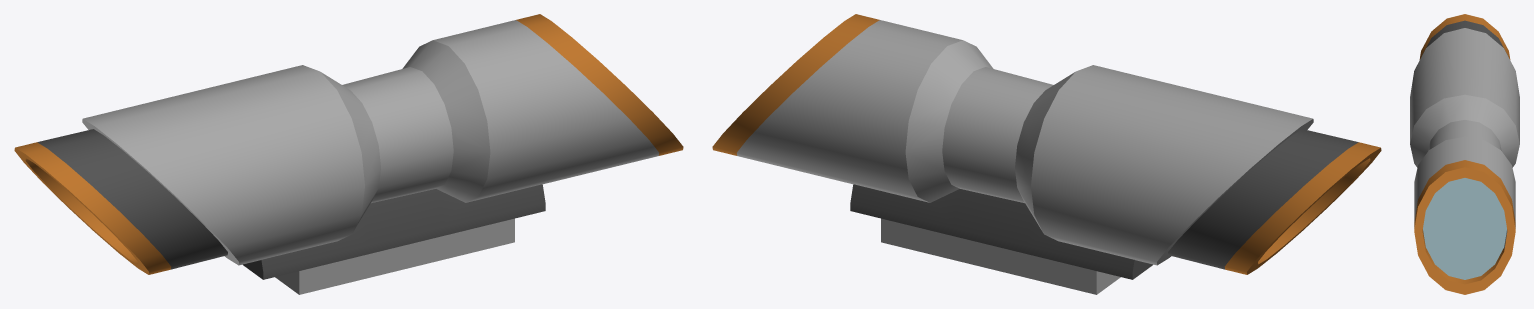
File: Scope_1.glb
The picture shows the model from 3 angles, left to right: view 1: azimuth 30°, elevation 25°; view 2: azimuth 150°, elevation 25°; view 3: azimuth 270°, elevation 25°; orthographic projection. The views are drawn at different scales.
Visible parts, largest first — view 1: Scope_1; view 2: Scope_1; view 3: Scope_1.
Part boxes in pixels (box(x1,y1,x2,y2)): Scope_1: box(14, 14, 683, 294); Scope_1: box(712, 14, 1381, 294); Scope_1: box(1410, 14, 1519, 294).
Bounding box in the file's own units: 0.5103 × 0.1544 × 0.1236.
